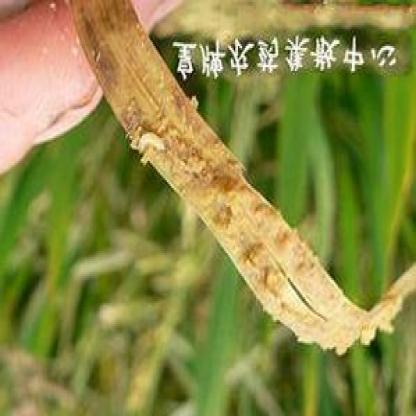whorl-maggot: (131, 121, 169, 162)
